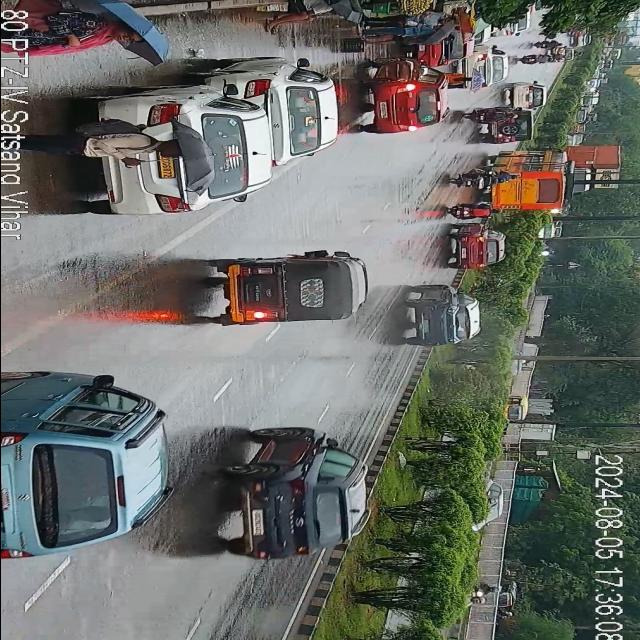2-wheelers: (446, 171, 514, 197), (524, 38, 574, 72), (443, 202, 496, 222), (464, 582, 508, 606), (463, 106, 518, 122)
auto: (208, 250, 367, 329), (496, 394, 530, 422)
bus: (476, 148, 566, 216)
car: (0, 363, 172, 566), (223, 426, 369, 564), (137, 92, 269, 216), (230, 59, 340, 158), (363, 66, 448, 138), (396, 283, 485, 347), (445, 225, 501, 271), (464, 46, 508, 92), (480, 120, 538, 148), (418, 38, 472, 68), (505, 84, 545, 114), (549, 47, 573, 55)
pedestrian: (38, 132, 195, 162), (38, 18, 150, 56), (356, 8, 458, 44), (260, 0, 340, 32), (448, 74, 472, 86)
